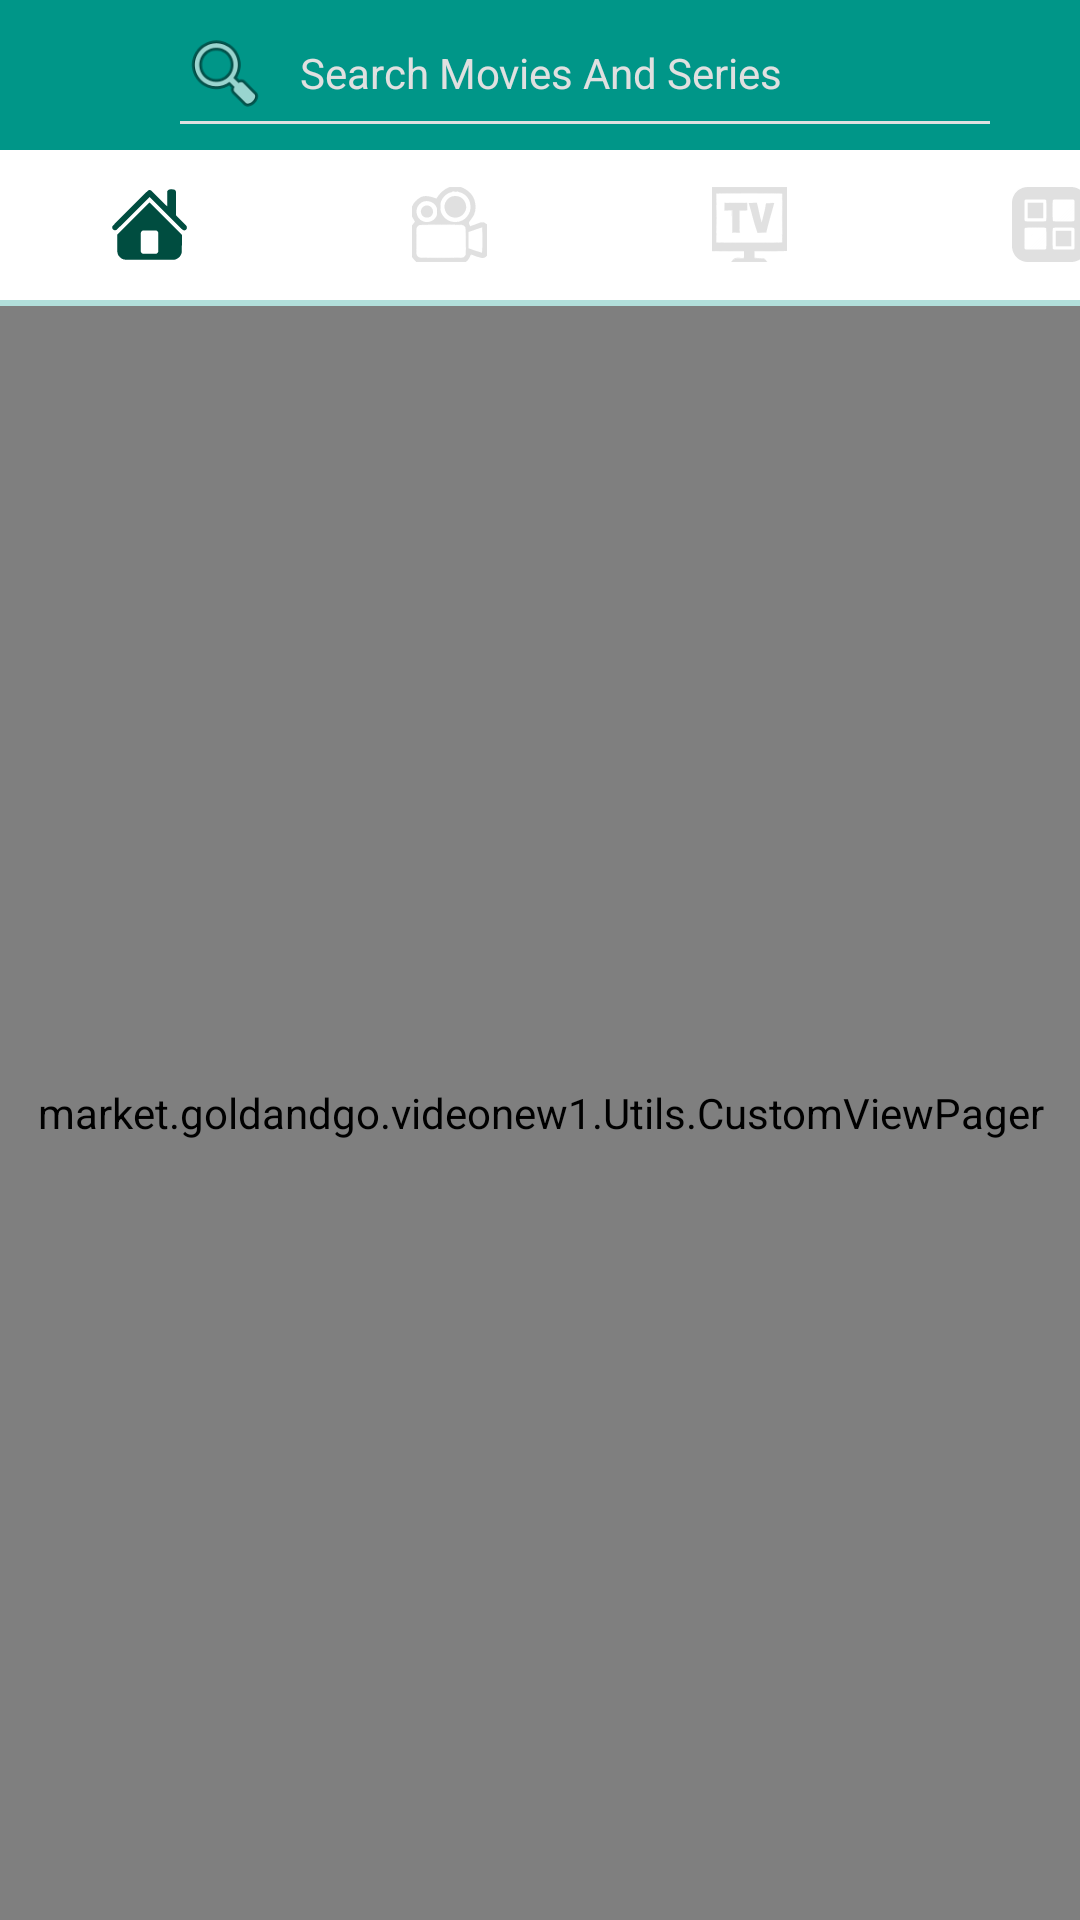

Screen size 1080×1920. Icon name, then its box in pixels as rect(x1, y1, x2, y2):
home: rect(112, 189, 187, 260)
menu: rect(1012, 187, 1080, 262)
movieicon: rect(412, 187, 487, 262)
